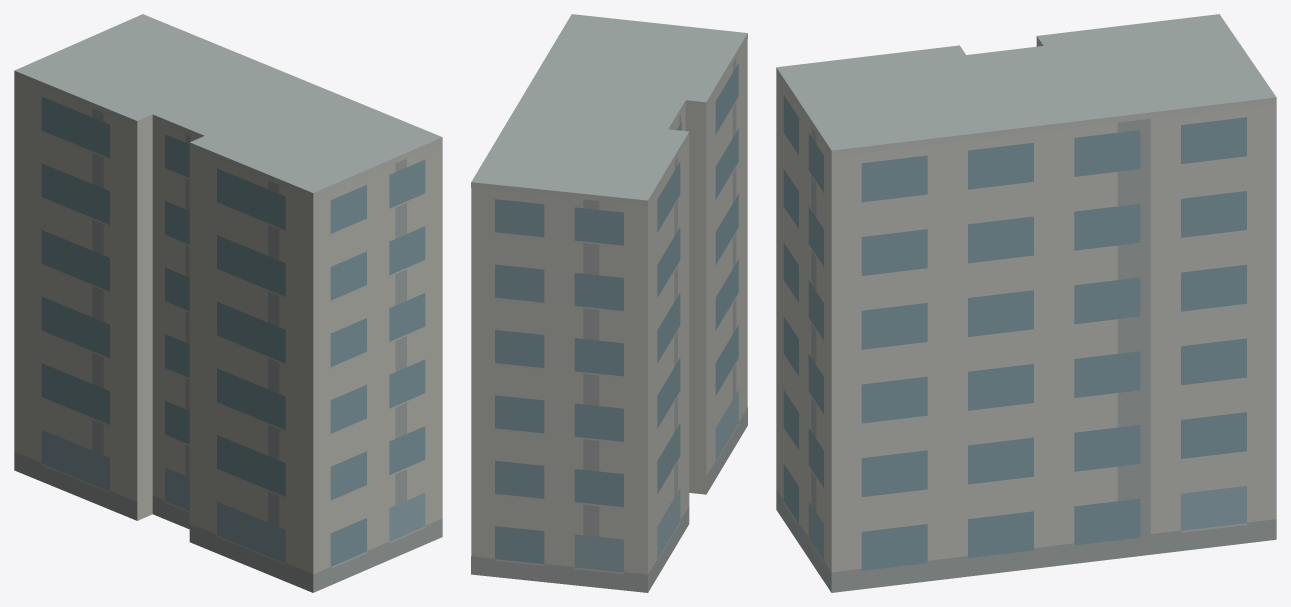
The model's file is survey-upis-33025497.glb.
3 renders of one model, left to right at view 1: azimuth 30°, elevation 25°; view 2: azimuth 150°, elevation 25°; view 3: azimuth 270°, elevation 25°, orthographic. The views are drawn at different scales.
Parts seen in each view (by area): view 1: survey-upis-33025497.tmp; view 2: survey-upis-33025497.tmp; view 3: survey-upis-33025497.tmp.
Part boxes in pixels (bbox=[...]): survey-upis-33025497.tmp: bbox=[14, 14, 442, 592]; survey-upis-33025497.tmp: bbox=[471, 14, 747, 592]; survey-upis-33025497.tmp: bbox=[776, 14, 1276, 592].
Size of the model in its own units: 11.33 by 17.1 by 17.54.
